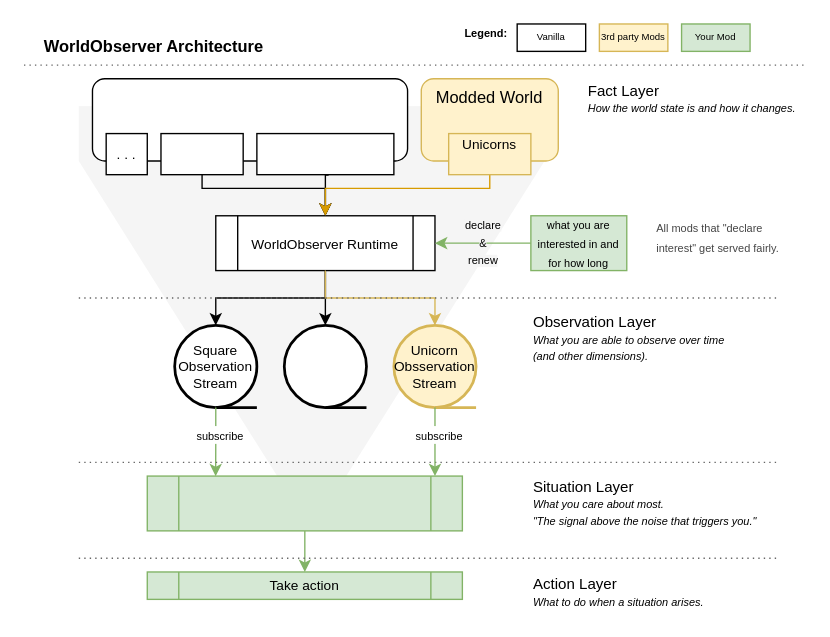
Image size: 830x637. Some labels were removed from this diagram. The centre of each missing label's shape, as x and y in pixels:
IsoSquares: point (325, 153)
IsoZombies: point (201, 153)
Use results to identify an "interesting situation": point (304, 503)
Vanilla World: point (249, 119)
Zombies Observation Stream: point (324, 365)
